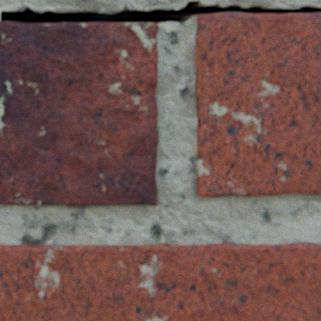brick: (0, 21, 157, 204), (0, 241, 320, 320), (195, 12, 320, 195)
crack: (0, 0, 320, 25)
